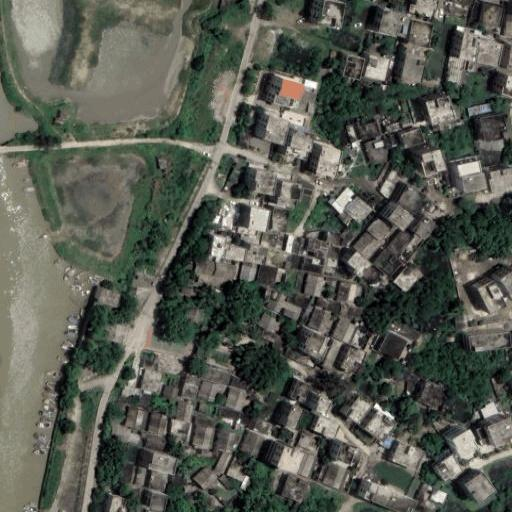building: (364, 483, 417, 512), (386, 364, 419, 400), (401, 42, 429, 84), (435, 390, 469, 423), (267, 289, 302, 321), (273, 76, 305, 110), (207, 198, 238, 231), (477, 281, 506, 315), (465, 473, 496, 504), (366, 411, 396, 441), (425, 96, 455, 125), (301, 330, 330, 360), (89, 281, 121, 308), (379, 10, 408, 39), (374, 249, 403, 278), (346, 395, 374, 425), (392, 443, 423, 470), (387, 227, 414, 257), (280, 475, 308, 503), (316, 145, 342, 175), (398, 185, 425, 213), (380, 332, 407, 360), (487, 417, 512, 447), (277, 447, 304, 474), (477, 39, 503, 67), (264, 116, 290, 144), (417, 380, 443, 408), (470, 334, 512, 351), (331, 188, 357, 215), (454, 430, 479, 458), (365, 55, 391, 81), (393, 267, 419, 293), (345, 197, 371, 223), (436, 457, 462, 483), (481, 114, 506, 141), (342, 348, 367, 375), (240, 430, 265, 457), (227, 455, 252, 482), (473, 396, 500, 421), (337, 443, 364, 467), (323, 463, 347, 490), (408, 20, 433, 45), (354, 232, 379, 257), (322, 0, 345, 27), (422, 150, 446, 175), (148, 454, 178, 474), (459, 35, 482, 61), (348, 251, 372, 275), (489, 168, 512, 193), (257, 263, 283, 285), (481, 3, 505, 26), (389, 207, 413, 230), (380, 171, 402, 196), (289, 131, 314, 153), (298, 430, 323, 452), (248, 207, 270, 231), (214, 429, 236, 453), (445, 56, 463, 85), (181, 374, 201, 400), (308, 309, 330, 332), (148, 412, 170, 435), (194, 467, 217, 489), (286, 349, 314, 367), (200, 381, 224, 402), (461, 172, 486, 192), (349, 324, 369, 349), (314, 417, 339, 437), (298, 90, 317, 116), (296, 453, 315, 479), (414, 217, 436, 239), (368, 219, 390, 241), (140, 370, 162, 392), (254, 172, 277, 193), (343, 56, 363, 80), (321, 249, 339, 275), (148, 469, 169, 491), (304, 274, 324, 297), (337, 282, 358, 303), (194, 426, 214, 448), (170, 420, 192, 440), (401, 129, 424, 148), (270, 208, 289, 231), (258, 314, 281, 333), (332, 316, 350, 340), (261, 327, 284, 345), (174, 282, 197, 300), (300, 256, 324, 273), (265, 247, 285, 267), (359, 122, 380, 141), (247, 244, 268, 263), (225, 390, 246, 409), (239, 227, 262, 244), (458, 161, 482, 177), (261, 233, 283, 250), (286, 407, 303, 429), (409, 4, 437, 17), (308, 239, 332, 254), (292, 382, 310, 402), (121, 464, 139, 484), (224, 244, 245, 261), (215, 262, 237, 278), (240, 260, 256, 282), (341, 322, 357, 344), (280, 182, 300, 199), (284, 235, 300, 256), (176, 403, 194, 421), (211, 236, 226, 257), (150, 494, 167, 512), (283, 253, 302, 269), (127, 408, 143, 427), (215, 453, 231, 472), (254, 420, 274, 435), (468, 103, 491, 116), (286, 147, 310, 159), (109, 496, 127, 512), (501, 272, 512, 297), (122, 386, 144, 398), (219, 408, 239, 421), (339, 210, 355, 226), (238, 474, 252, 492), (146, 436, 165, 449), (195, 261, 214, 273), (381, 435, 396, 450), (417, 485, 431, 501), (112, 425, 129, 438), (317, 398, 330, 414), (430, 490, 446, 503), (416, 0, 439, 9), (348, 305, 364, 317), (163, 386, 179, 398), (277, 197, 294, 208), (327, 301, 340, 313), (327, 232, 341, 243), (136, 468, 145, 485), (341, 230, 353, 242), (386, 123, 399, 134), (264, 287, 275, 300), (127, 433, 141, 443), (505, 15, 512, 34), (298, 237, 305, 256), (316, 298, 329, 308), (507, 46, 512, 68), (504, 76, 512, 89), (305, 80, 318, 88), (172, 478, 186, 484), (341, 305, 349, 315), (202, 451, 212, 457), (184, 486, 195, 491)
